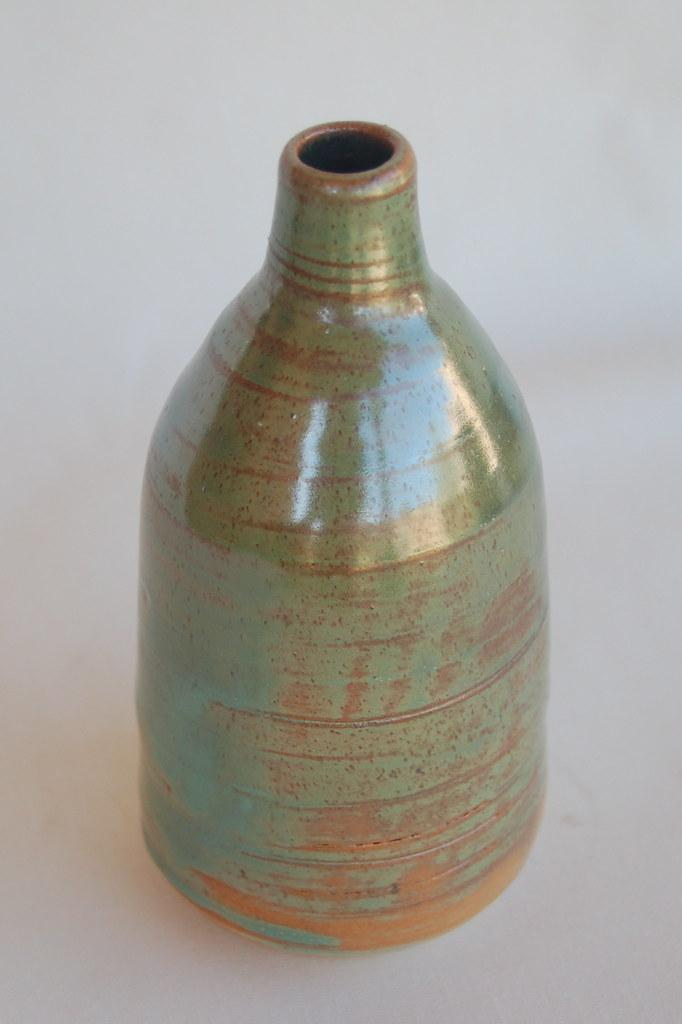bottle: (135, 119, 552, 955)
